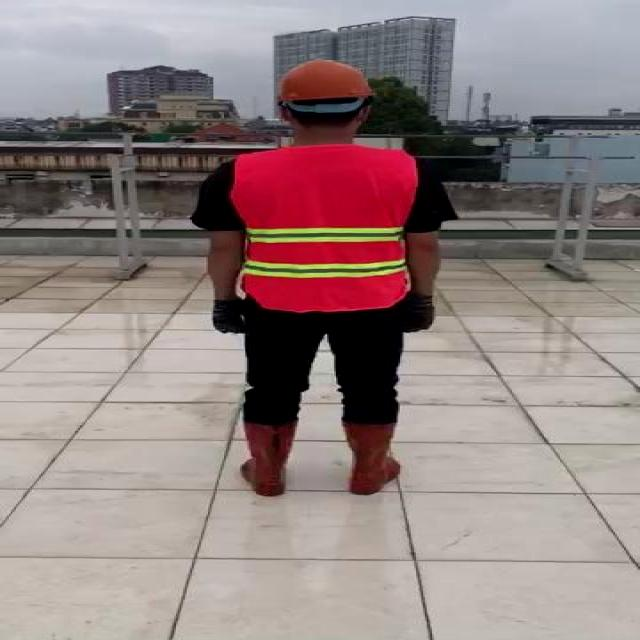boots: (235, 419, 302, 497), (334, 421, 398, 499)
hand_glove: (391, 291, 434, 336), (210, 301, 245, 334)
head_helmet: (276, 56, 378, 105)
person: (186, 54, 452, 503)
vest: (231, 151, 414, 307)
